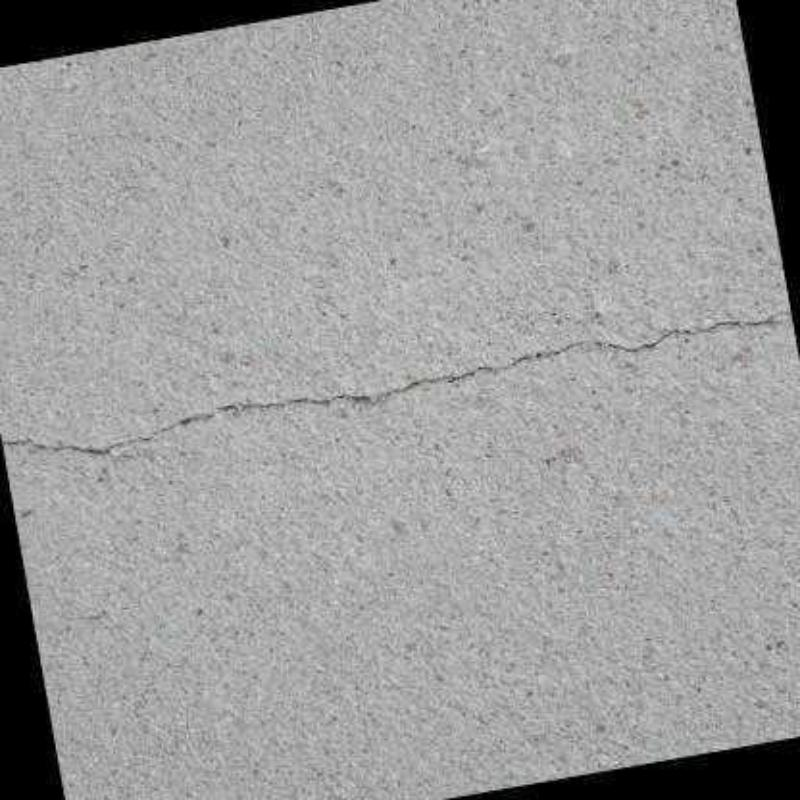pothole: (1, 309, 791, 450)
